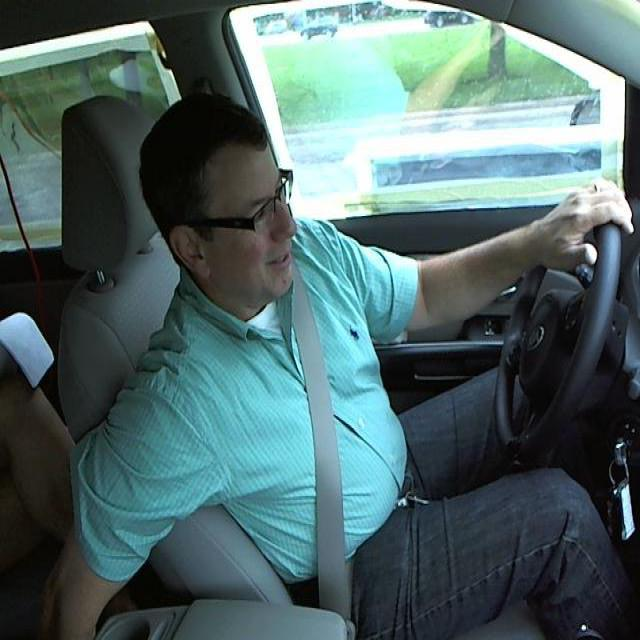seatbelt: (283, 289, 364, 607)
